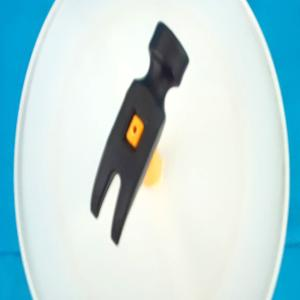martelo: (89, 18, 192, 247)
